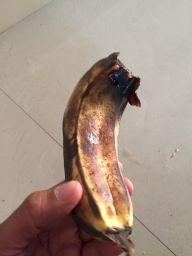banana: (60, 48, 144, 256)
